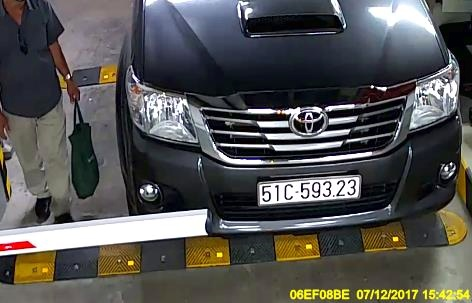plate: (251, 174, 366, 206)
